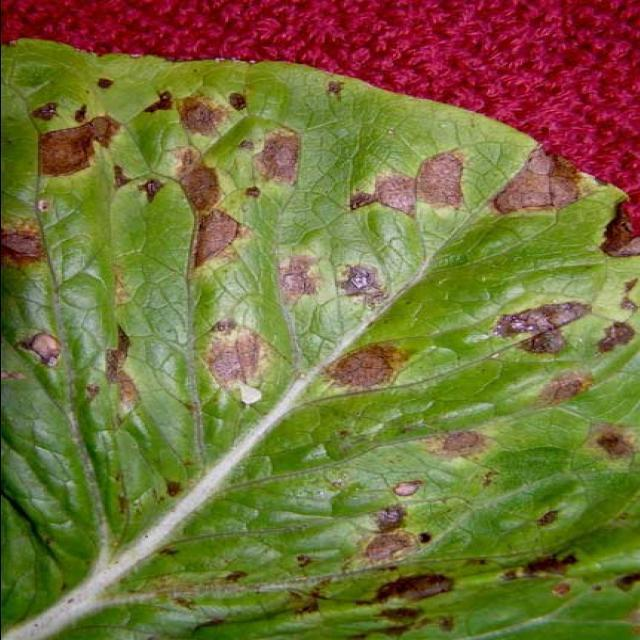Septoria_Blight_on_lettuce: (26, 107, 602, 631)
